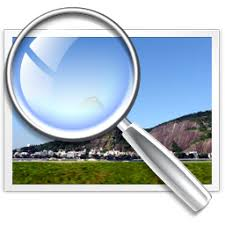searchIcon: (5, 5, 214, 215)
